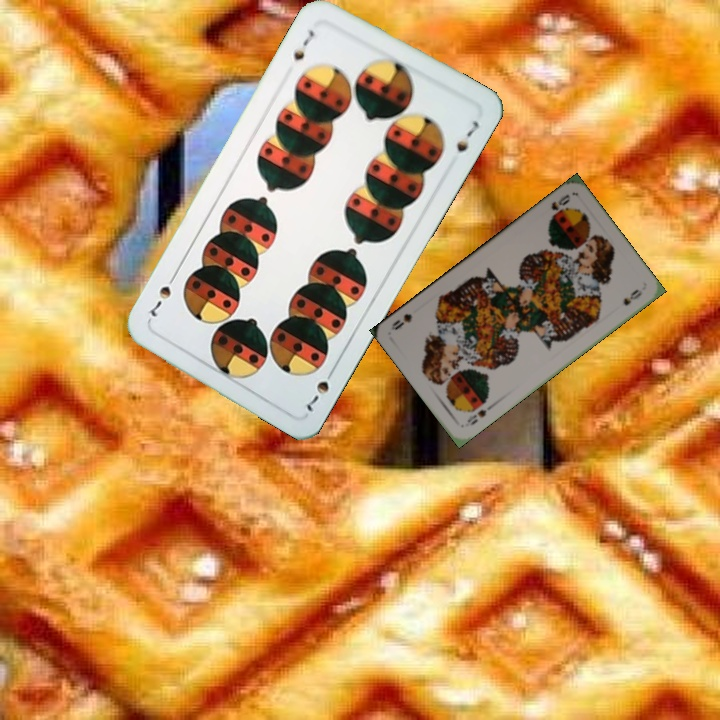S7: (302, 362, 339, 415), (289, 25, 317, 63)
SO: (461, 400, 496, 429), (547, 190, 573, 220)
